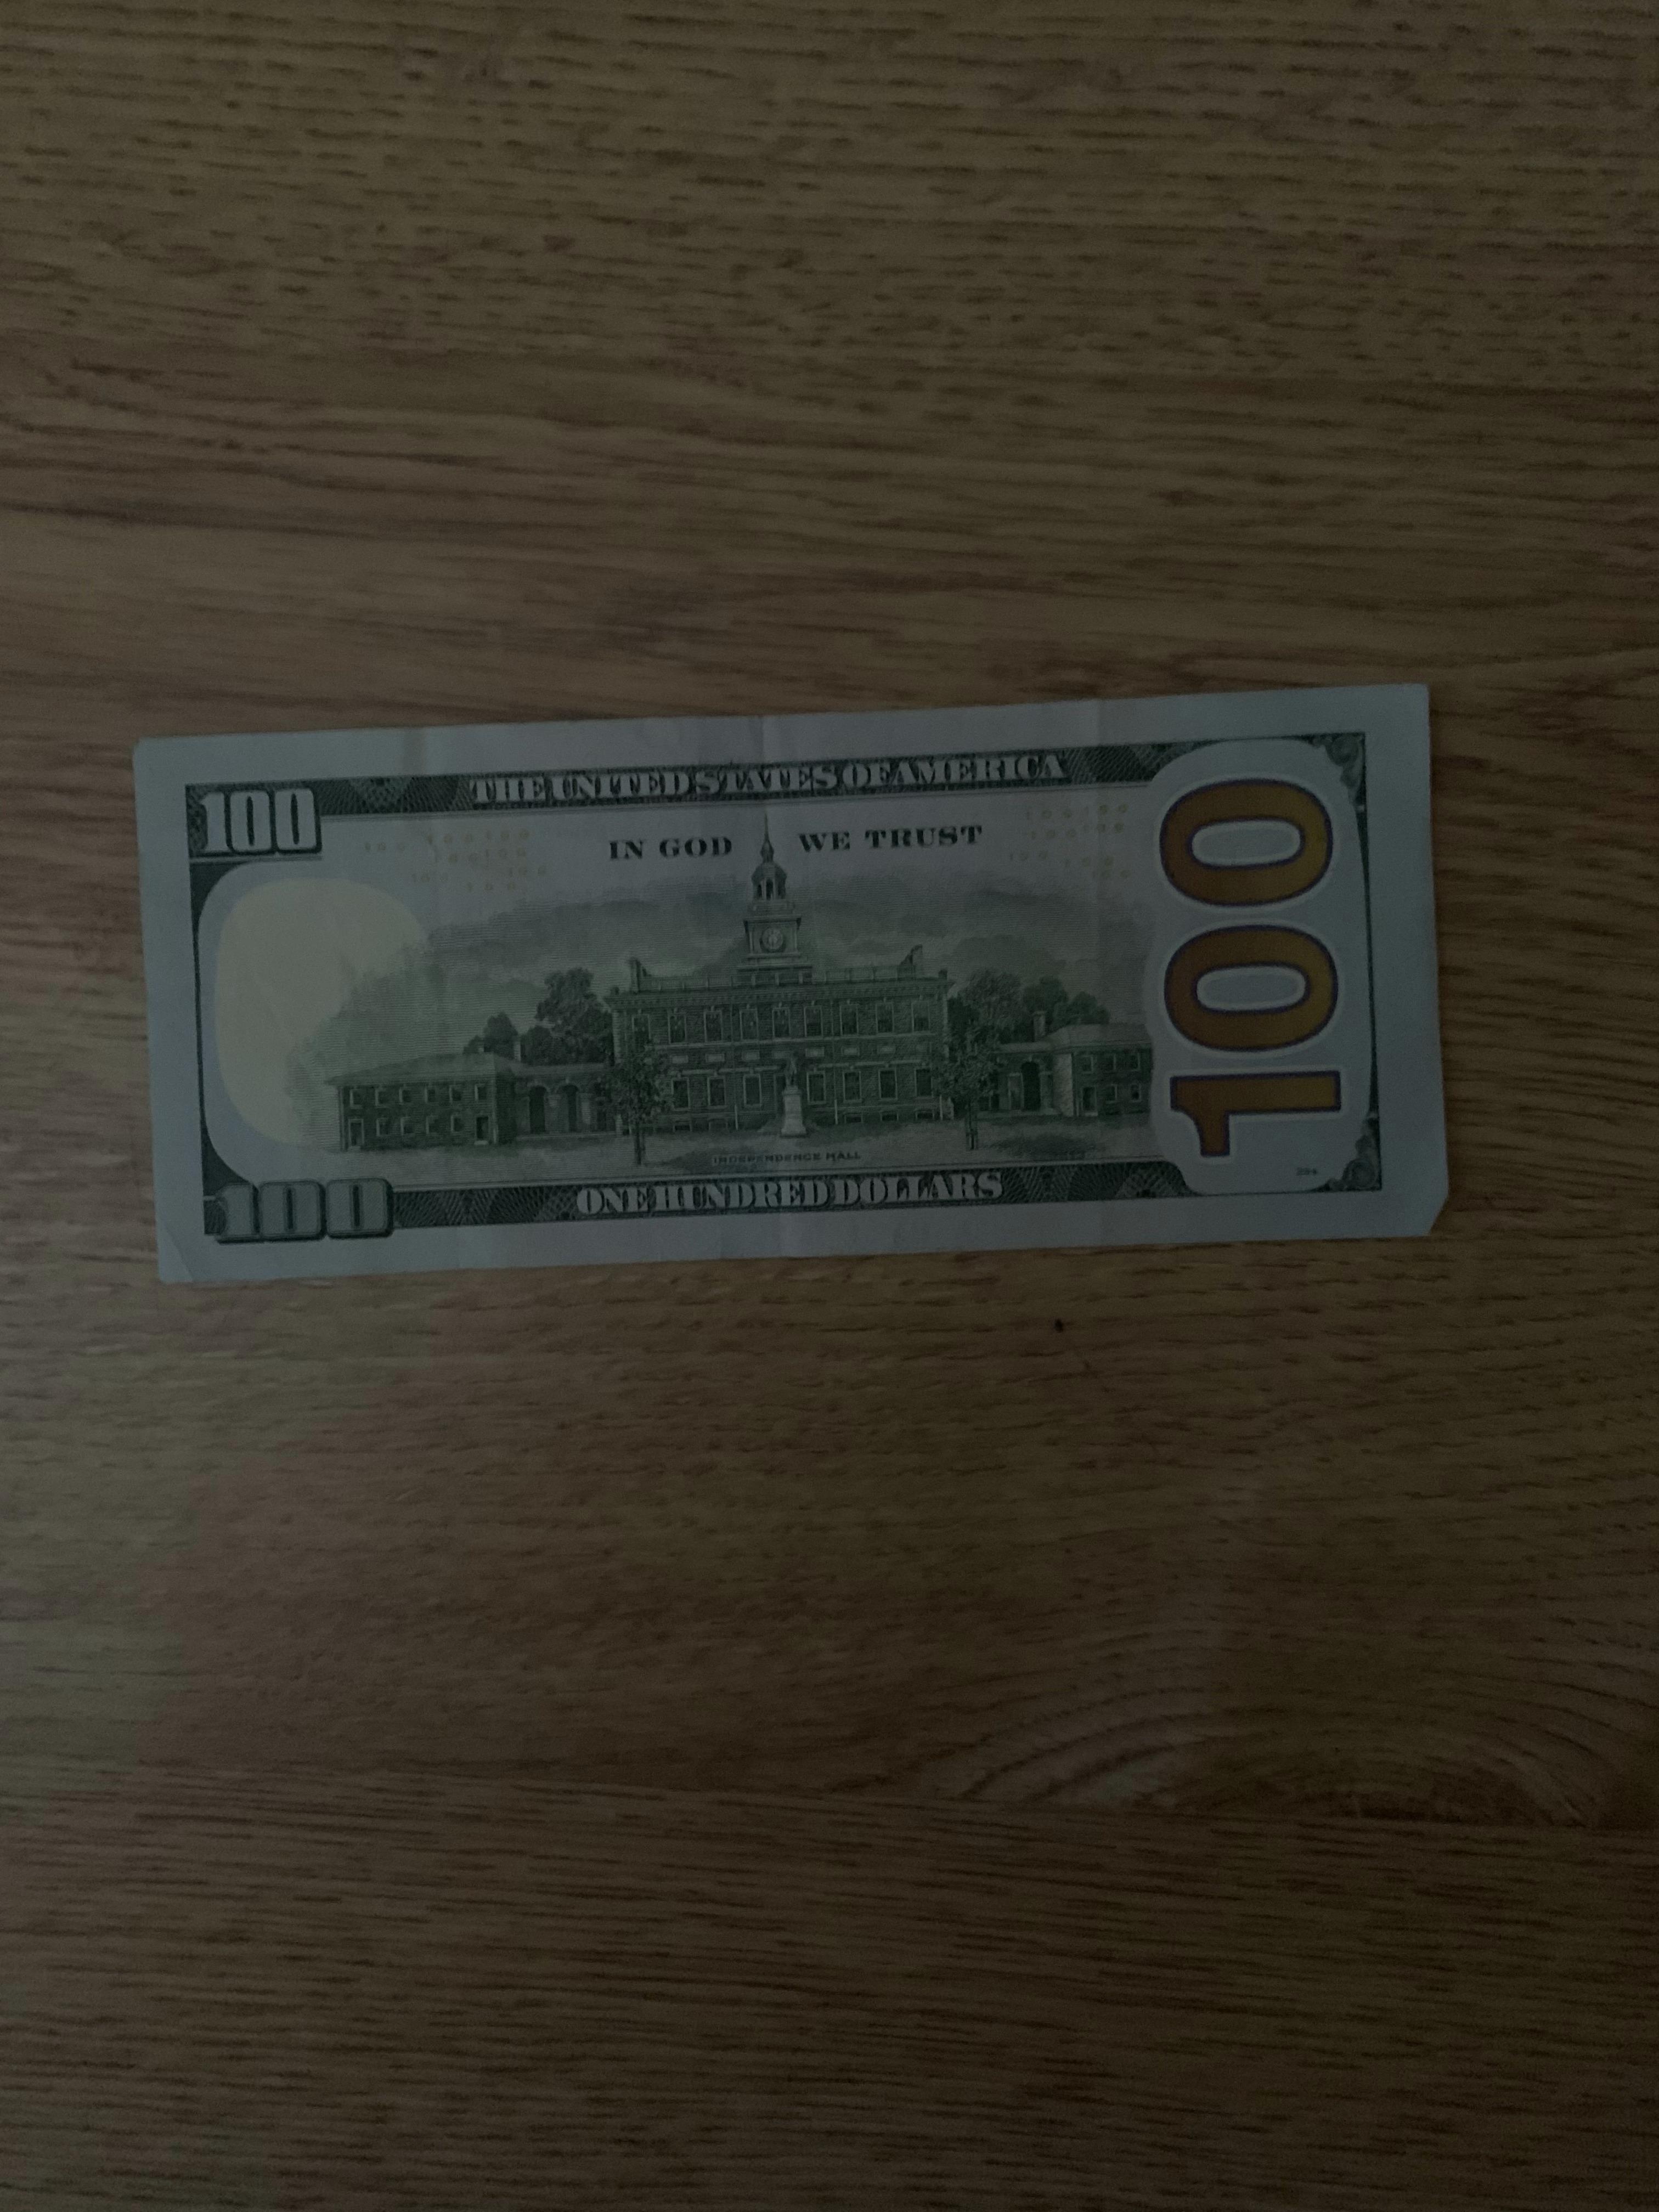HundredBill: (113, 681, 1460, 1292)
